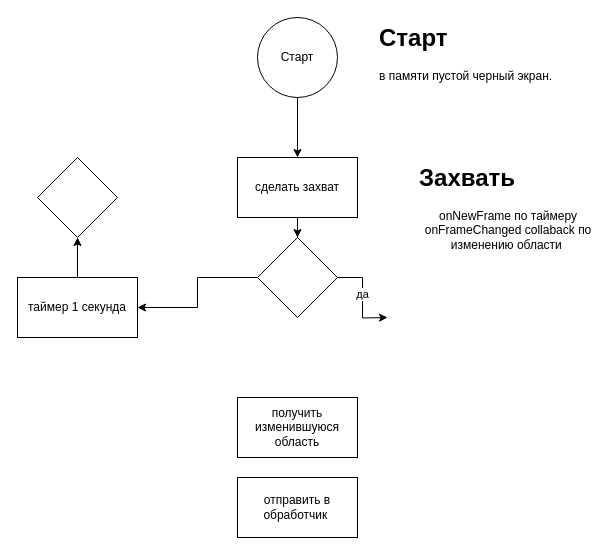
Some shapes in this 615 by 555 pixel diagram are drawn without their labels. Each missing label, with the centre of its shape:
"изображение изменилось" goes at pixel 297 277.
"таймаут прошел" goes at pixel 77 197.
